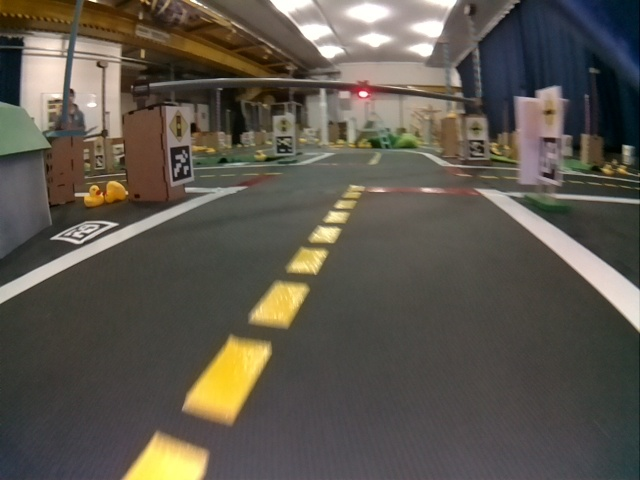Duckie: (105, 181, 125, 200), (84, 185, 104, 204), (254, 150, 264, 159)
Intersection sign: (536, 90, 558, 130), (468, 121, 486, 138)
QR code: (52, 221, 118, 243), (169, 146, 192, 182), (541, 137, 558, 180), (468, 142, 487, 159), (277, 137, 294, 154)
Signal sign: (168, 110, 191, 143)
Traffic light: (358, 81, 370, 98)
